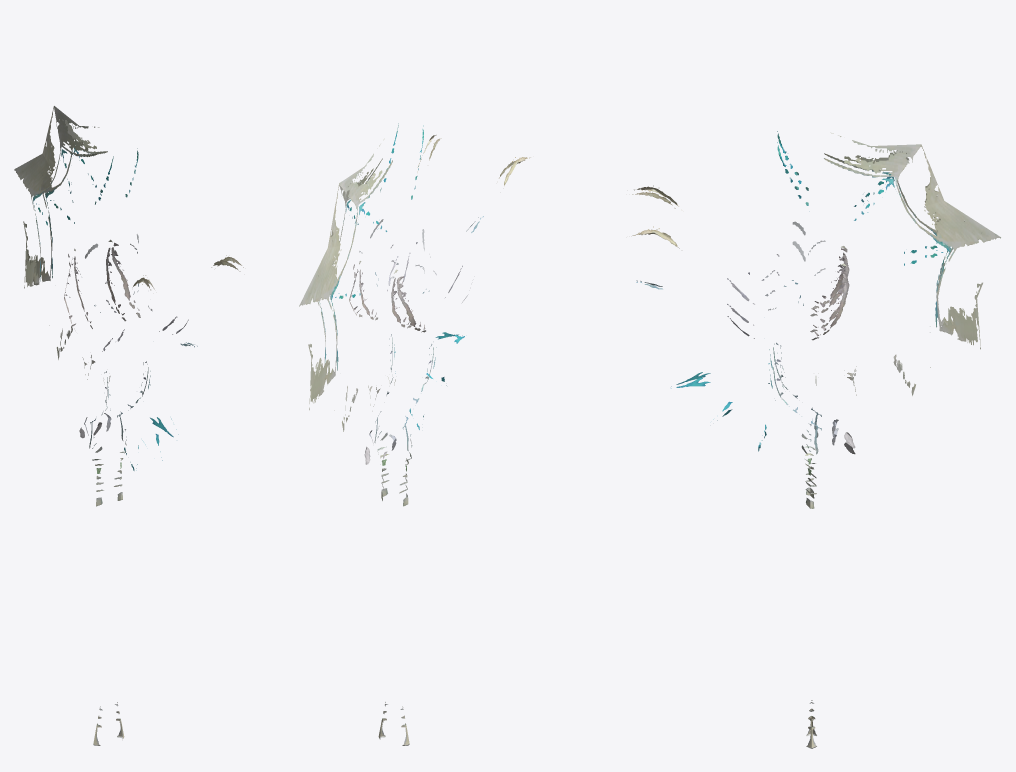
Rendered from 15psf_c4466ac3.glb.
3 views of the same model, side by side, from view 1: azimuth 30°, elevation 25°; view 2: azimuth 150°, elevation 25°; view 3: azimuth 270°, elevation 25° (orthographic).
Size of the model in its own units: 0.3828 by 2.76 by 1.4.
1 material, 1 textured.
